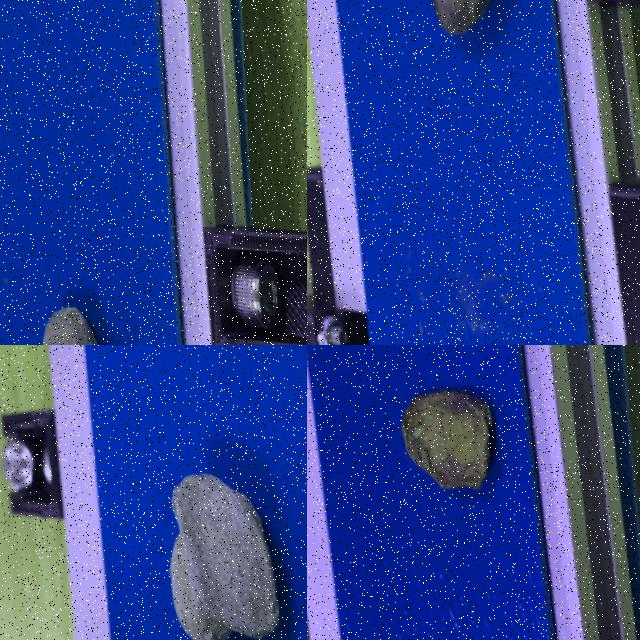Agglomerated_cocoabeans: (100, 378, 306, 639), (0, 241, 160, 344)
Fine_cocoabeans: (397, 0, 542, 88)
Flat_cocoabeans: (352, 345, 539, 603)
